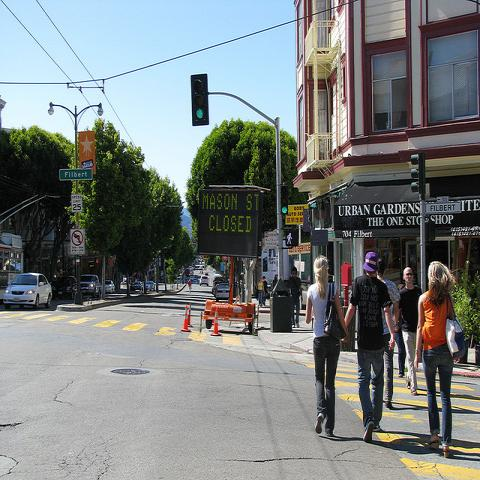car: (4, 273, 52, 310), (51, 275, 77, 300), (80, 275, 102, 299), (212, 276, 229, 294), (214, 284, 229, 304), (105, 280, 115, 293), (145, 280, 156, 290), (199, 276, 209, 286), (132, 281, 143, 290), (190, 276, 194, 280)
